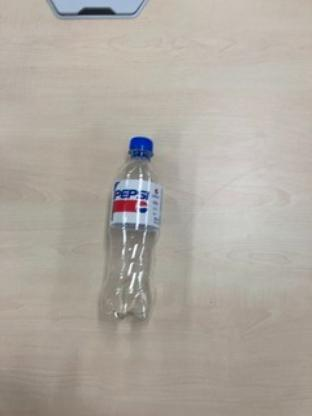Plastic Bottle: (100, 131, 162, 328)
